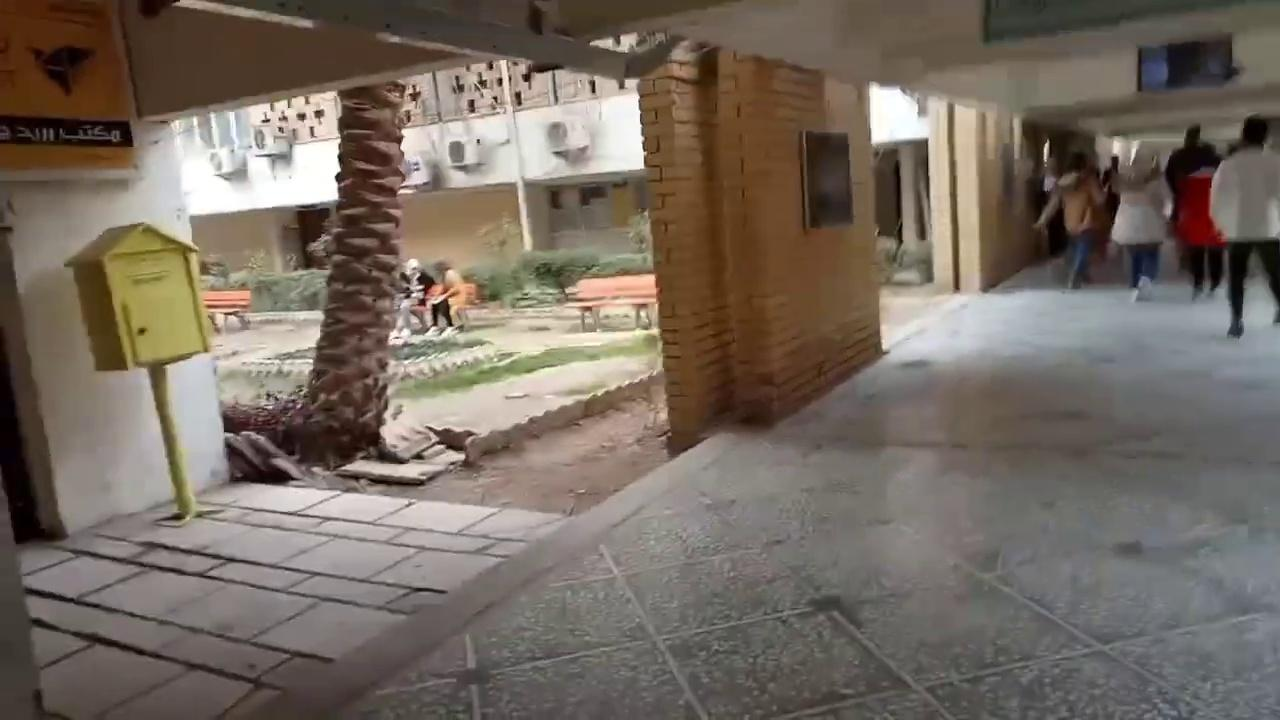person: (1208, 115, 1279, 338), (390, 258, 435, 338), (423, 259, 465, 336)
tree: (288, 78, 411, 466)
